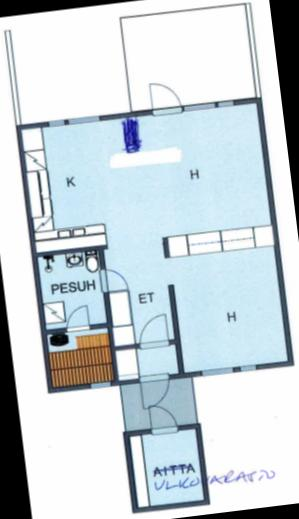door: (136, 369, 172, 412), (145, 76, 182, 116), (134, 311, 170, 351), (145, 401, 179, 437), (96, 263, 130, 293), (60, 302, 92, 333)
window: (178, 95, 217, 114), (197, 362, 237, 379), (63, 111, 102, 126), (232, 360, 262, 374), (42, 114, 68, 130), (212, 96, 235, 111), (88, 378, 114, 391)
